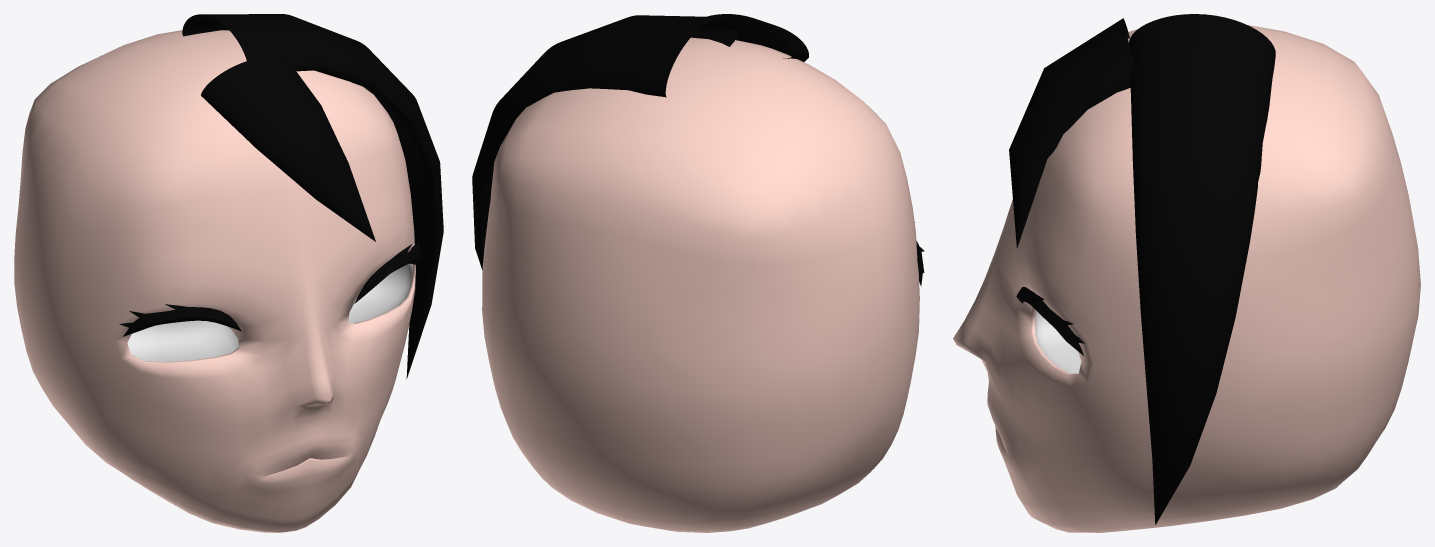
Rendered from Heads.fbx.
3 renders of one model, left to right at view 1: azimuth 30°, elevation 25°; view 2: azimuth 150°, elevation 25°; view 3: azimuth 270°, elevation 25°, orthographic. The views are drawn at different scales.
Visible parts, largest first — view 1: Head, Hair, Eyelashes; view 2: Head, Hair; view 3: Head, Hair, Eyelashes.
Boxes of the visible parts, <box> form: Head: <box>14,30,415,532</box>; Hair: <box>182,14,443,378</box>; Eyelashes: <box>119,240,420,336</box>; Head: <box>482,37,919,532</box>; Hair: <box>472,14,808,269</box>; Head: <box>953,25,1420,532</box>; Hair: <box>1009,14,1275,524</box>; Eyelashes: <box>1016,287,1084,355</box>.
Size of the model in its own units: 39.83 by 45.03 by 38.06.
